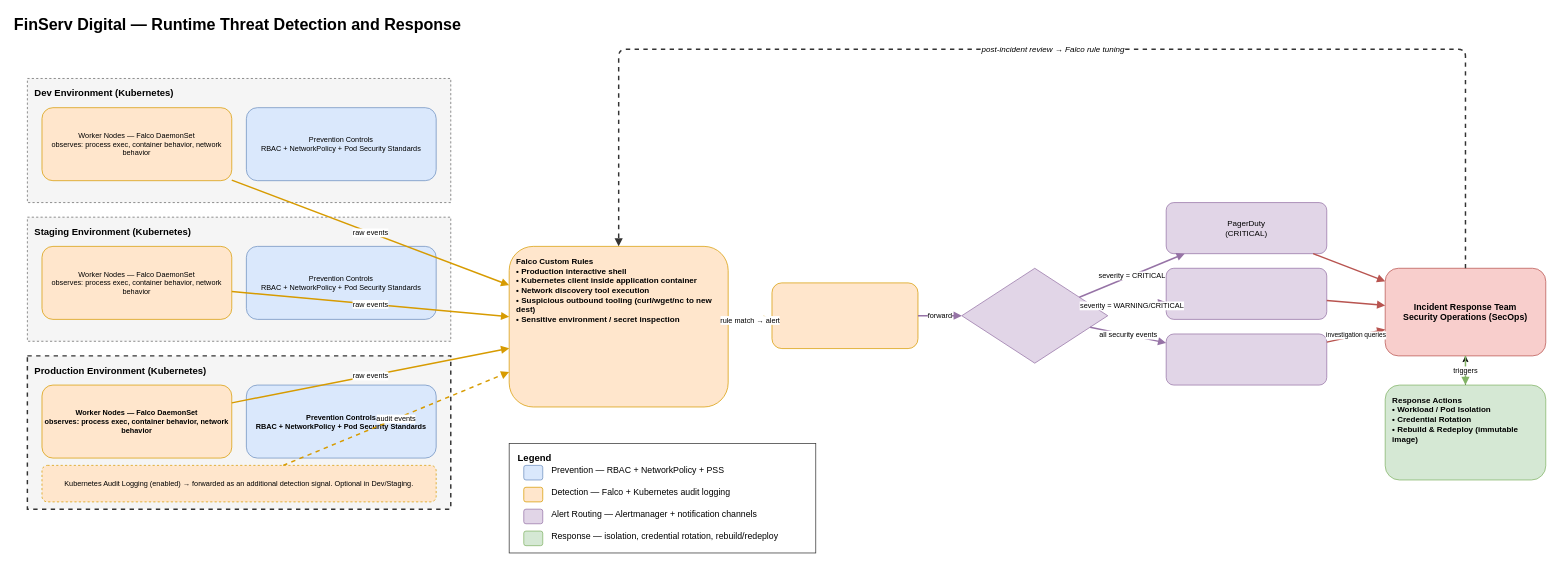
Image size: 1559x566. Some labels were removed from this diagram. The shapes that lost their labels are listed below. From the top down, each one's centre as x and y in pixels, then its label:
pixel 1246 293: Slack (WARNING / CRITICAL)
pixel 844 315: Falco Alert / Export Path (structured events → output channel)
pixel 1034 315: Alertmanager (Routing Decision)
pixel 1246 359: SIEM (Security Evidence Retention)
